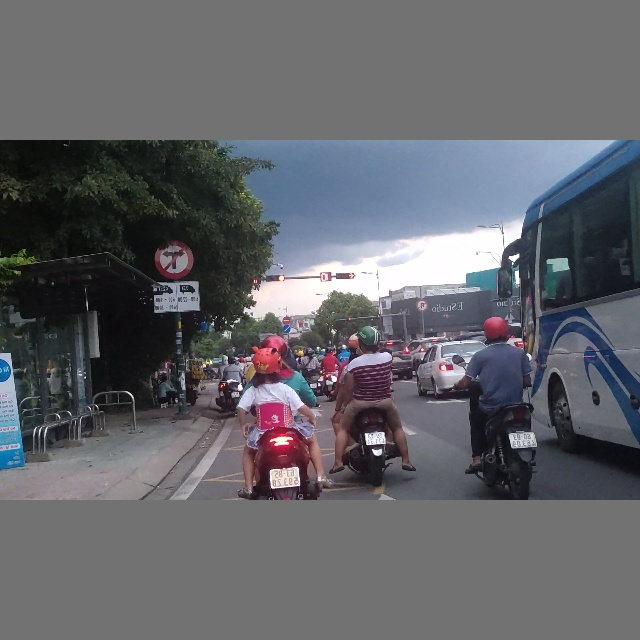P.102: (282, 317, 290, 325)
P.124a*: (416, 299, 429, 312)
P.137: (154, 240, 194, 280)
R.302a: (283, 325, 291, 334)
S.505a*Xe tai: (153, 280, 201, 312)
